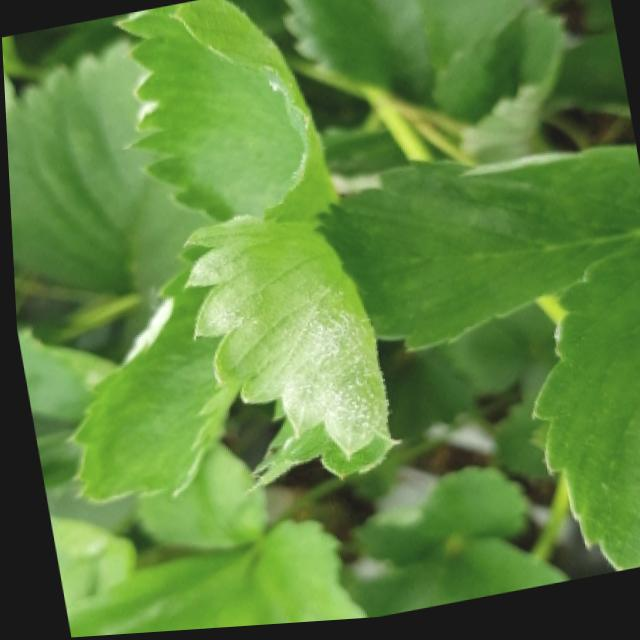Powdery Mildew Leaf: (178, 216, 396, 484), (112, 0, 336, 225), (60, 265, 233, 508), (526, 244, 640, 580)
